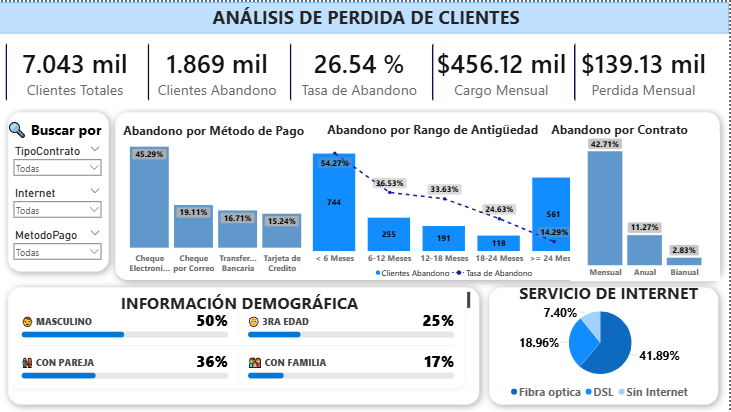

The page's visual inventory and layout, read from the dashboard file:
{"tool":"powerbi","page":{"name":"Resumen Ejecutivo","canvas":[1920,1080],"ordinal":0},"visuals":[{"type":"shape","box":[0,725.5,1288.2,356.9],"z":0},{"type":"shape","box":[1266.7,725.5,651,356.9],"z":1000},{"type":"shape","box":[280.4,266.7,1639.2,490.2],"z":2000},{"type":"shape","box":[0,265.4,312.8,467.9],"z":3000},{"type":"shape","box":[0,0,1920,82.5],"z":4000},{"type":"textbox","box":[424.1,0,1096.8,88.9],"z":5000},{"type":"slicer","fields":{"Values":["Telco-Customer-Churn.TipoContrato"]},"box":[29.5,369.2,250,110.3],"z":6000},{"type":"slicer","fields":{"Values":["Telco-Customer-Churn.ServicioInternet"]},"box":[29.4,479.4,250,111.8],"z":7000},{"type":"slicer","fields":{"Values":["Telco-Customer-Churn.MetodoPago"]},"box":[29.5,589.7,250,110.3],"z":8000},{"type":"cardVisual","fields":{"Data":["tabla_medidasDAX.Clientes Totales","tabla_medidasDAX.Clientes Abandono","tabla_medidasDAX.Tasa de Abandono","tabla_medidasDAX.Cargo Mensual","tabla_medidasDAX.Perdida Mensual"]},"box":[0,88.5,1896.7,190.2],"z":9000},{"type":"shape","box":[0,291,292,82.1],"z":10000},{"type":"pieChart","title":" Abandono por Internet","fields":{"Category":["DIM_Servicios.ServicioInternet"],"Y":["tabla_medidasDAX.Tasa de Abandono"]},"box":[1267.5,787.5,627.5,265],"z":11000},{"type":"textStylerD577C9FF21FB4883A1CE1335C340B54F","fields":{"measure":["tabla_medidasDAX.Ficha_Demografica_HTML"]},"box":[29.4,786.3,1237.3,258.8],"z":12000},{"type":"textbox","box":[29.4,756.9,1215.7,58.8],"z":13000},{"type":"textbox","box":[1312.5,732.5,582.5,85],"z":14000},{"type":"lineStackedColumnComboChart","title":"Abandono por Rango de Antiguedad","fields":{"Y":["tabla_medidasDAX.Clientes Abandono"],"Y2":["tabla_medidasDAX.Tasa de Abandono"],"Category":["DIM_InfoCuenta.GrupoAntiguedad"]},"box":[762.5,345,872.5,390],"z":15000},{"type":"clusteredColumnChart","title":" Abandono por Método de Pago","fields":{"Category":["DIM_InfoCuenta.MetodoPago"],"Y":["tabla_medidasDAX.Tasa de Abandono"]},"box":[280,332.5,570,390],"z":16000},{"type":"clusteredColumnChart","title":"Abandono por Contrato","fields":{"Category":["DIM_InfoCuenta.TipoContrato"],"Y":["tabla_medidasDAX.Tasa de Abandono"]},"box":[1502.5,345,395,390],"z":17000},{"type":"textbox","box":[320,310,487.5,62.5],"z":18000},{"type":"textbox","box":[850,307.5,582.5,62.5],"z":19000},{"type":"textbox","box":[1390,307.5,487.5,62.5],"z":20000}]}

Visuals, with their boxes in screenshot pixels (x1, y1, x2, y2), scaled from the page's 1920x1080 canvas onto the 731x412 screenshot:
shape: Rect(0, 277, 490, 411)
shape: Rect(482, 277, 730, 411)
shape: Rect(107, 102, 730, 289)
shape: Rect(0, 101, 119, 280)
shape: Rect(0, 0, 730, 31)
textbox: Rect(161, 0, 579, 34)
slicer - Telco-Customer-Churn.TipoContrato: Rect(11, 141, 106, 183)
slicer - Telco-Customer-Churn.ServicioInternet: Rect(11, 183, 106, 226)
slicer - Telco-Customer-Churn.MetodoPago: Rect(11, 225, 106, 267)
cardVisual - tabla_medidasDAX.Clientes Totales x tabla_medidasDAX.Clientes Abandono: Rect(0, 34, 722, 106)
shape: Rect(0, 111, 111, 142)
" Abandono por Internet" pieChart: Rect(483, 300, 721, 402)
textStylerD577C9FF21FB4883A1CE1335C340B54F - tabla_medidasDAX.Ficha_Demografica_HTML: Rect(11, 300, 482, 399)
textbox: Rect(11, 289, 474, 311)
textbox: Rect(500, 279, 721, 312)
"Abandono por Rango de Antiguedad" lineStackedColumnComboChart: Rect(290, 132, 622, 280)
" Abandono por Método de Pago" clusteredColumnChart: Rect(107, 127, 324, 276)
"Abandono por Contrato" clusteredColumnChart: Rect(572, 132, 722, 280)
textbox: Rect(122, 118, 307, 142)
textbox: Rect(324, 117, 545, 141)
textbox: Rect(529, 117, 715, 141)
